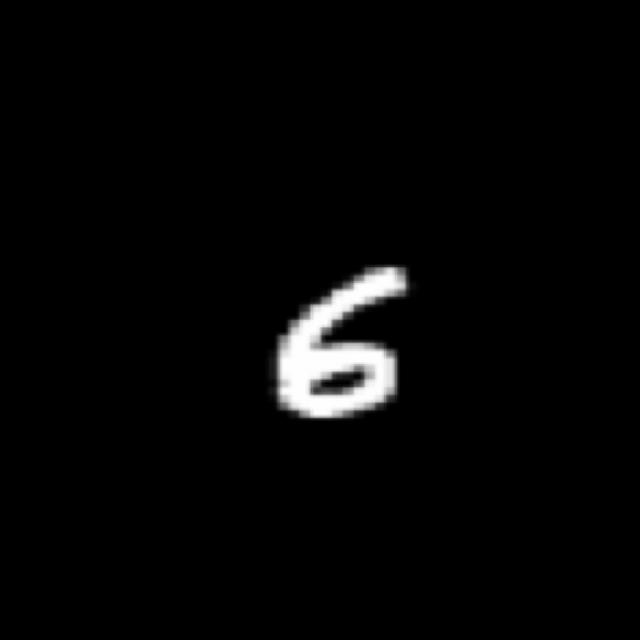six -6-: (262, 260, 418, 419)
